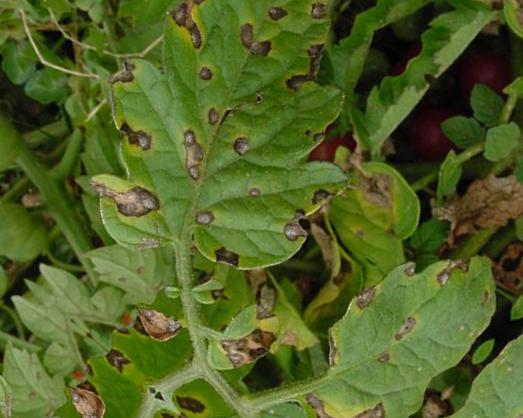Tomato Septoria leaf spot: (12, 0, 437, 347), (251, 200, 523, 418)
